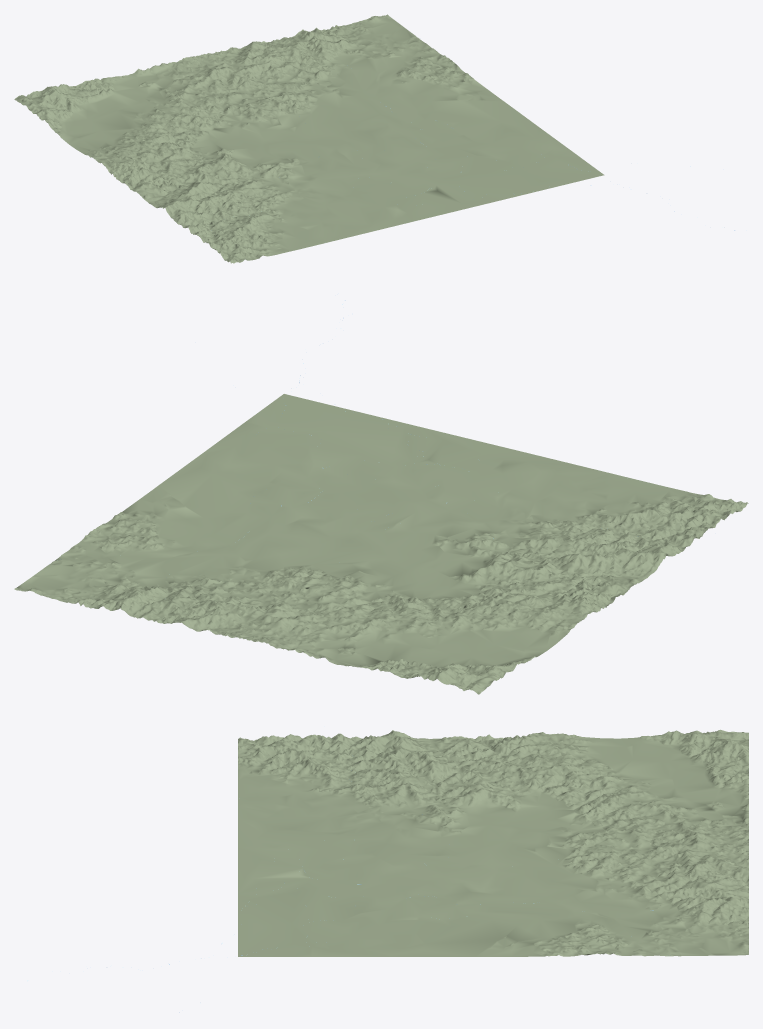
File: beijing_mountains.glb
The picture shows the model from 3 angles, top to bottom: view 1: azimuth 30°, elevation 25°; view 2: azimuth 150°, elevation 25°; view 3: azimuth 270°, elevation 25°; orthographic projection. The views are drawn at different scales.
Parts seen in each view (by area): view 1: BeijingMountains; view 2: BeijingMountains; view 3: BeijingMountains.
Part boxes in pixels (box(x1,y1,x2,y2)): BeijingMountains: box(14, 14, 604, 263); BeijingMountains: box(14, 394, 748, 694); BeijingMountains: box(238, 729, 748, 956).
Size of the model in its own units: 1503 by 43.95 by 1600.
